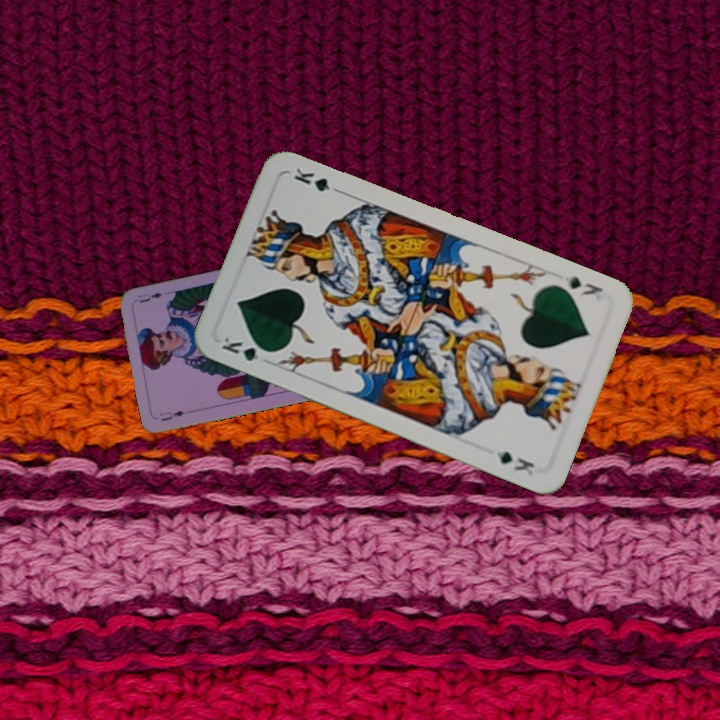EU: (156, 406, 187, 424)
GK: (217, 333, 275, 365), (560, 272, 605, 299)
